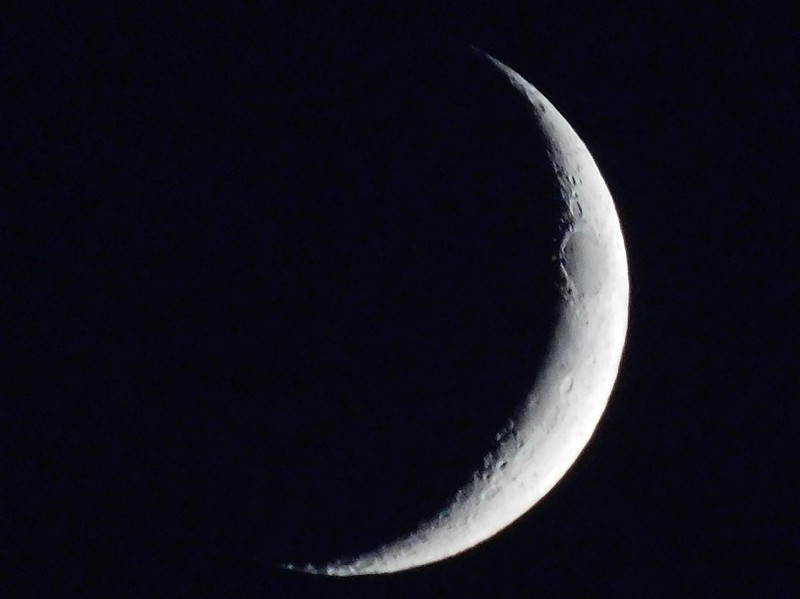crater: (548, 221, 615, 321), (555, 367, 580, 398), (563, 193, 590, 220), (492, 455, 521, 479)
